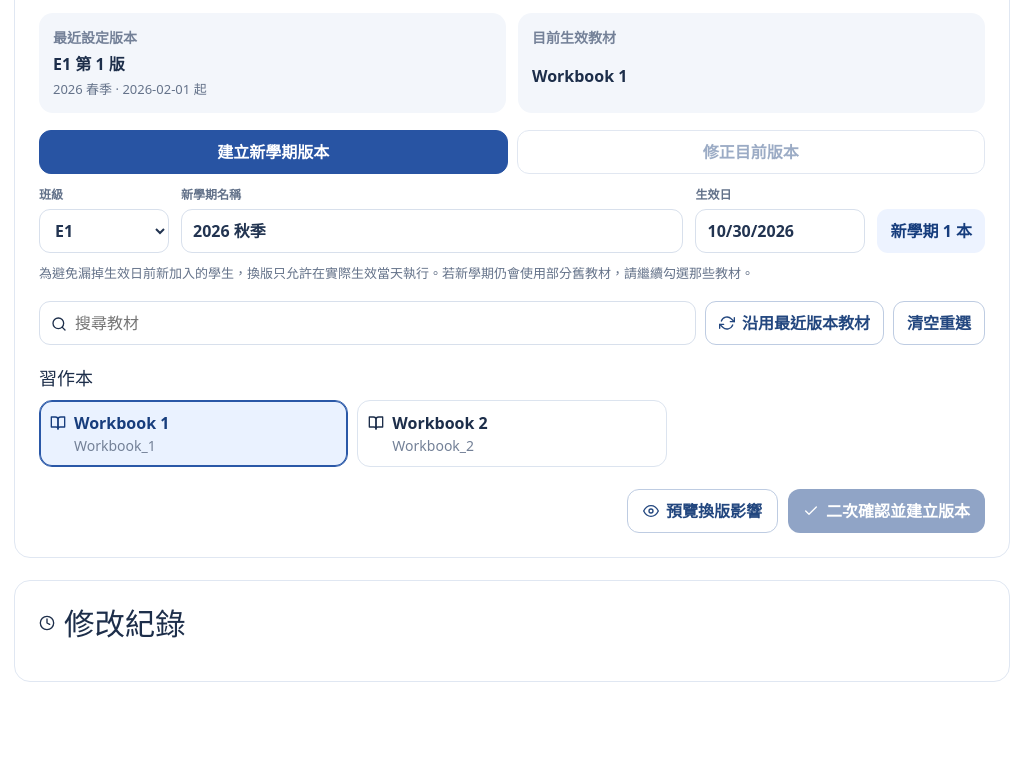
Scenario: AdminClassMaterials term rollover wizard › separates retained old books from the new term selection
(page scrolled)
expect the text "E1 第 1 版" is shown: met, box [53,53,125,75]
expect the text "2026 春季 · 2026-02-01 起" is shown: met, box [53,80,207,98]
Click the checkbox labelled "Workbook 2 Workbook_2".
click(512, 433)  # box [357,400,667,466]
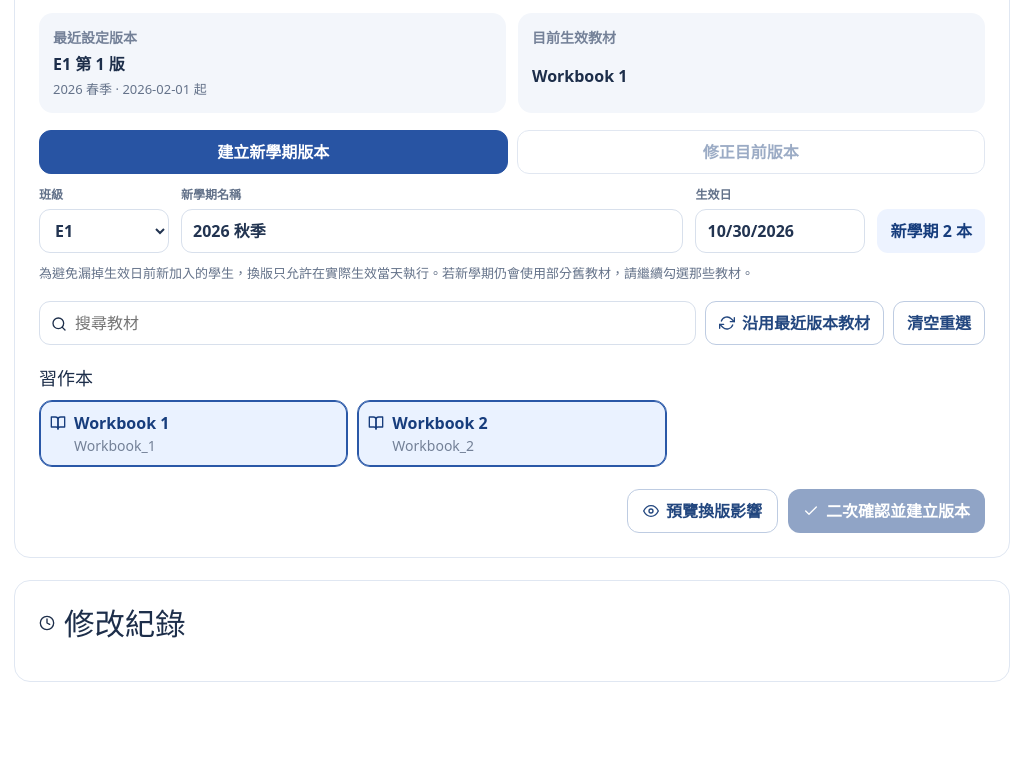
Click the button "預覽換版影響".
click(702, 510)  # box [627,488,778,532]
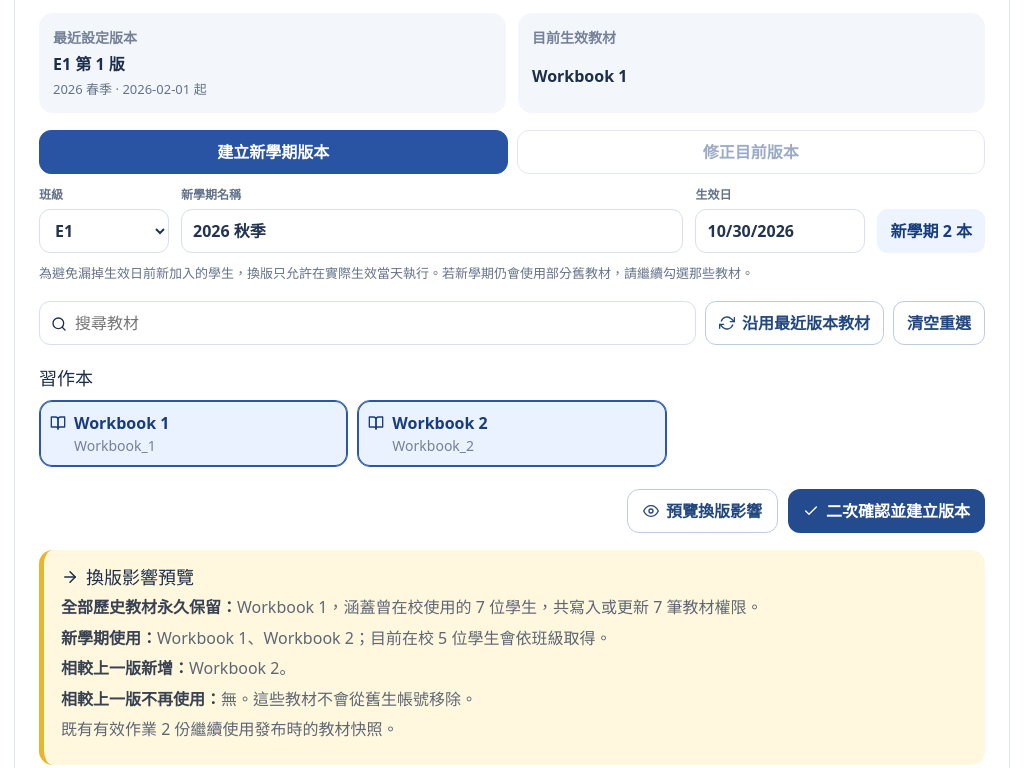
expect the text "全部歷史教材永久保留：Workbook 1，涵蓋曾在校使用的 7 位學生，共寫入或更新 7 筆教材權限。" is shown: met, box [61,596,762,618]
expect the text "相較上一版不再使用：無。這些教材不會從舊生帳號移除。" is shown: met, box [61,688,477,710]
expect the button "二次確認並建立版本" is enabled: met, box [788,488,985,532]
